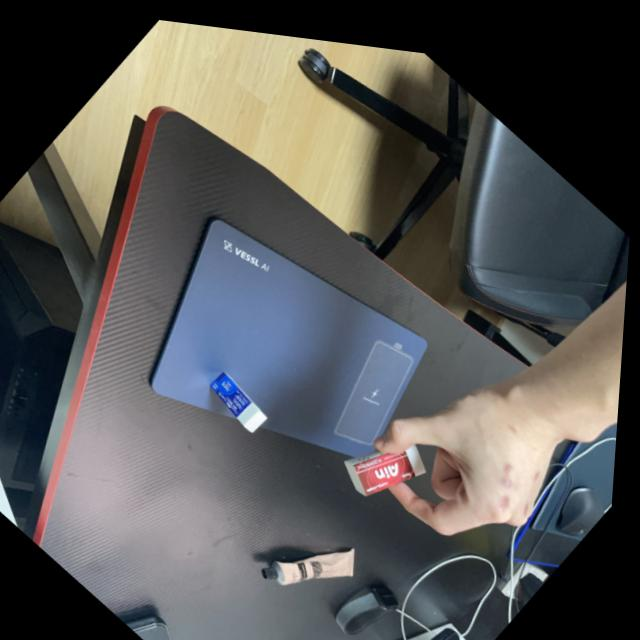blue: (196, 351, 288, 440)
red: (328, 392, 451, 521)
